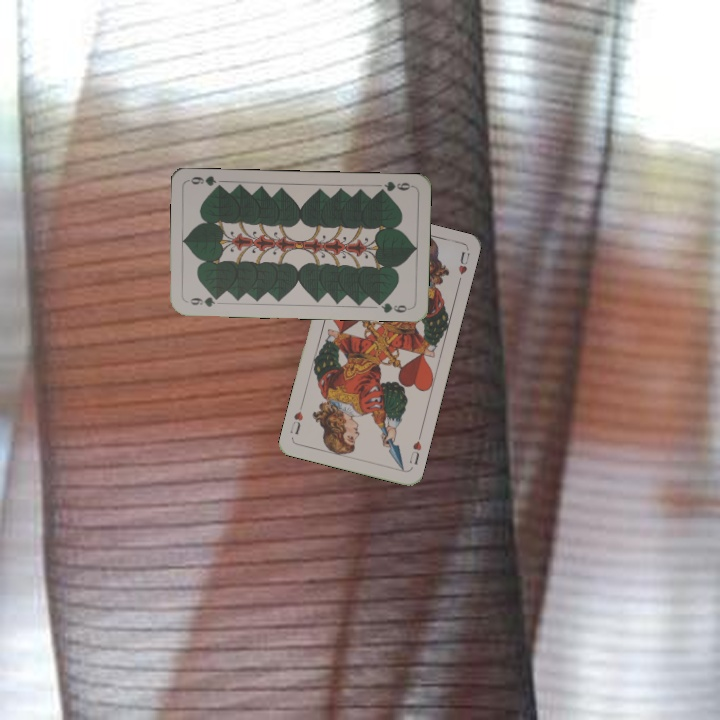G9: (374, 177, 415, 196), (186, 292, 224, 309)
HU: (405, 437, 424, 467)
